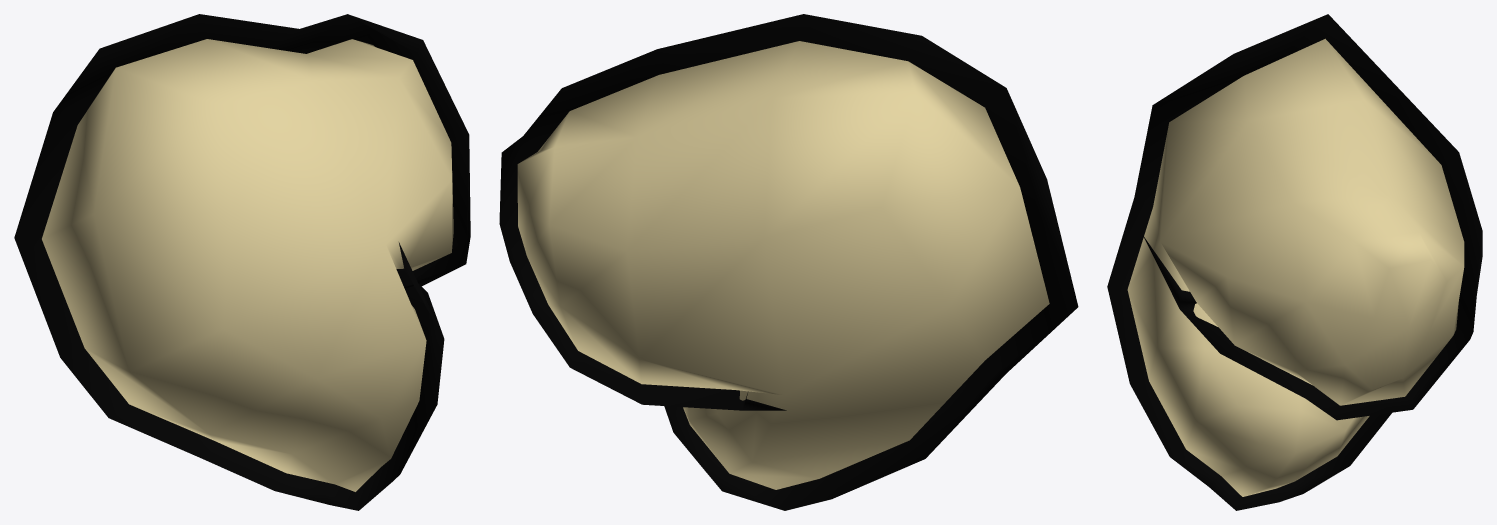
Rendered from popcorn.compressed.glb.
The picture shows the model from 3 angles, left to right: view 1: azimuth 30°, elevation 25°; view 2: azimuth 150°, elevation 25°; view 3: azimuth 270°, elevation 25°; orthographic projection. The views are drawn at different scales.
Visible parts, largest first — view 1: PopcornSmall_PopcornTexShader_0, PopcornSmall_PopcornOutlines_0; view 2: PopcornSmall_PopcornTexShader_0, PopcornSmall_PopcornOutlines_0; view 3: PopcornSmall_PopcornTexShader_0, PopcornSmall_PopcornOutlines_0.
Boxes of the visible parts, bbox=[...] form: PopcornSmall_PopcornTexShader_0: bbox=[42, 39, 453, 491]; PopcornSmall_PopcornOutlines_0: bbox=[14, 14, 470, 510]; PopcornSmall_PopcornTexShader_0: bbox=[517, 41, 1049, 489]; PopcornSmall_PopcornOutlines_0: bbox=[499, 14, 1078, 510]; PopcornSmall_PopcornTexShader_0: bbox=[1127, 38, 1464, 496]; PopcornSmall_PopcornOutlines_0: bbox=[1107, 14, 1482, 510].
Bounding box in the file's own units: 2.26 × 2.36 × 1.96.
